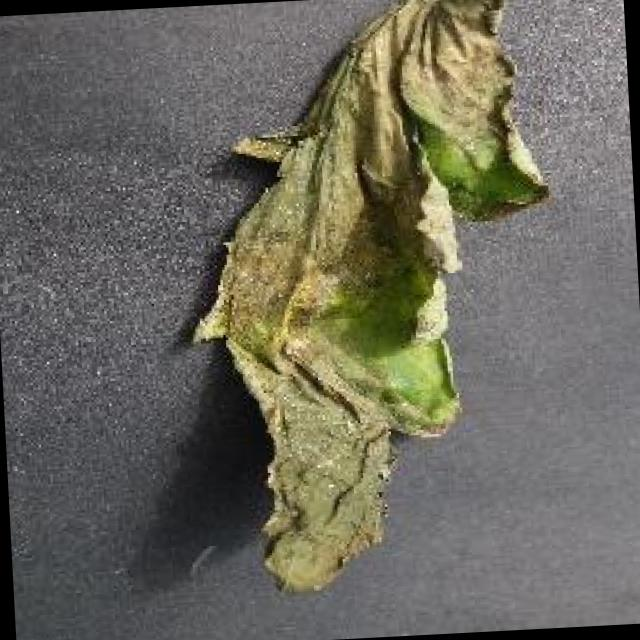Tomato_Late_Blight: (164, 0, 578, 609)
